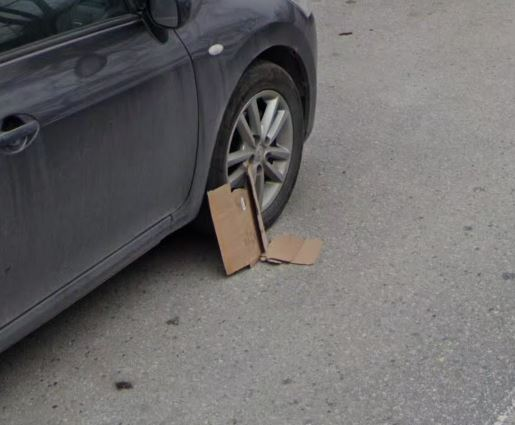trash: (202, 171, 332, 273)
